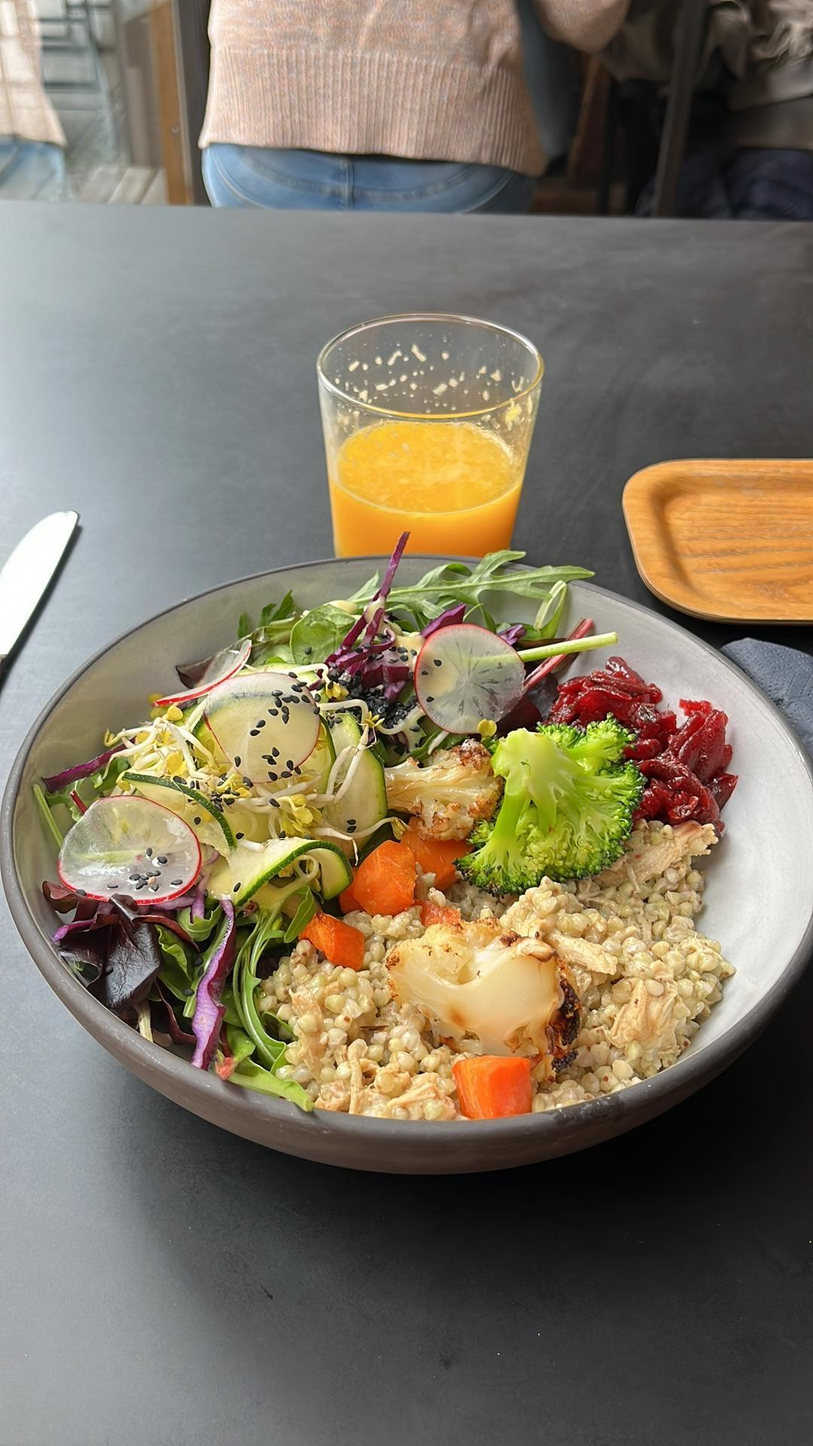broccoli: (466, 715, 649, 887)
carrot: (452, 1047, 530, 1118), (401, 819, 468, 887), (356, 834, 411, 910), (297, 915, 364, 964)
cauliflower: (378, 914, 583, 1057), (384, 740, 503, 837)
lettuce: (50, 901, 318, 1110), (212, 900, 309, 1108), (315, 540, 600, 610), (242, 606, 412, 687), (33, 747, 134, 832)
radish: (49, 794, 209, 903), (201, 671, 331, 789), (411, 620, 527, 733), (149, 639, 262, 706)
vegetable marrow: (126, 767, 238, 853), (206, 837, 355, 899), (318, 709, 385, 837)
